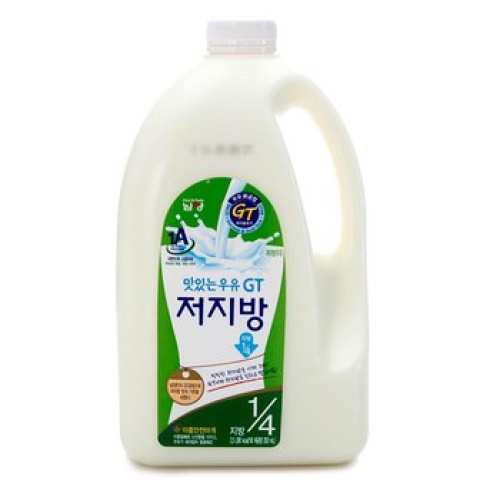milk: (116, 19, 371, 466)
